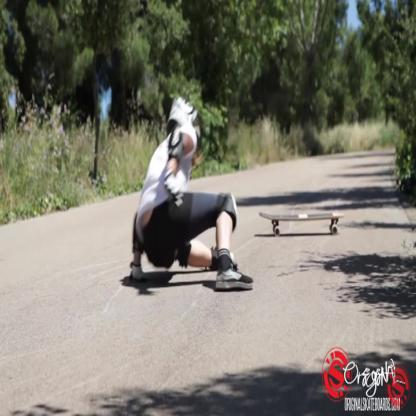Fall_Down: (128, 95, 254, 294)
